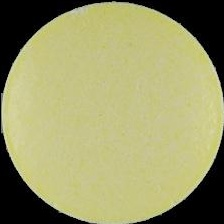49035-940: (0, 0, 224, 224)
